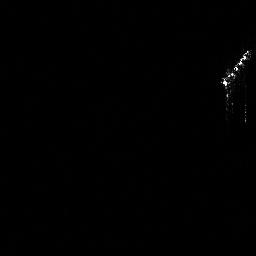ship: (216, 46, 253, 101)
